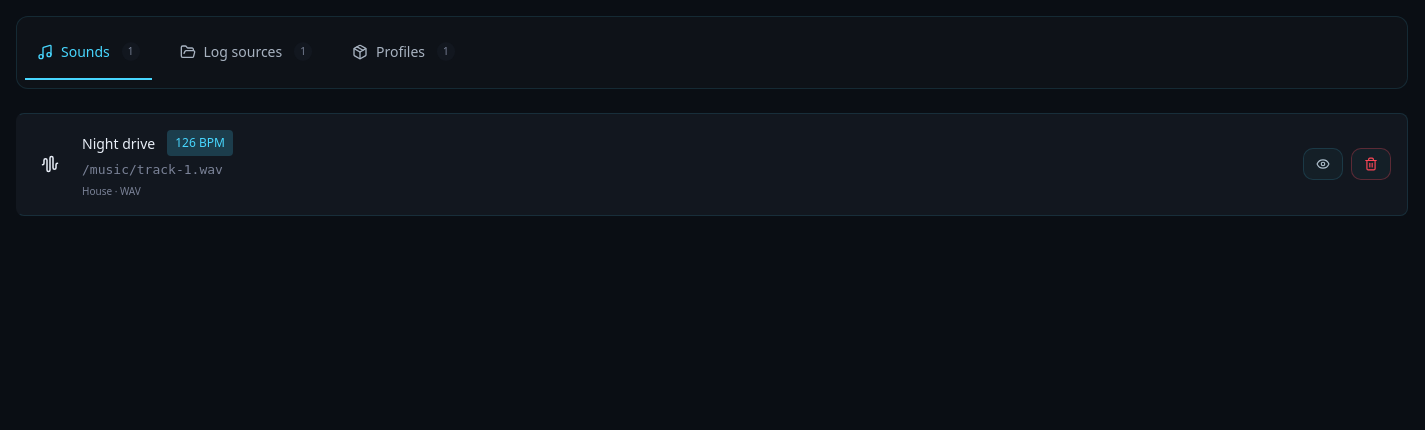
Test: ProLibraryScreen › switches between sounds, sources, and profiles while rendering deck data
The width and height of the screenshot is (1425, 430).
Check: the text "Night drive" is shown, box [82, 132, 155, 154]
Check: the text "126 BPM" is shown, box [167, 130, 233, 156]
Click the button "Log sources 1" at (246, 52), box [168, 25, 324, 80]
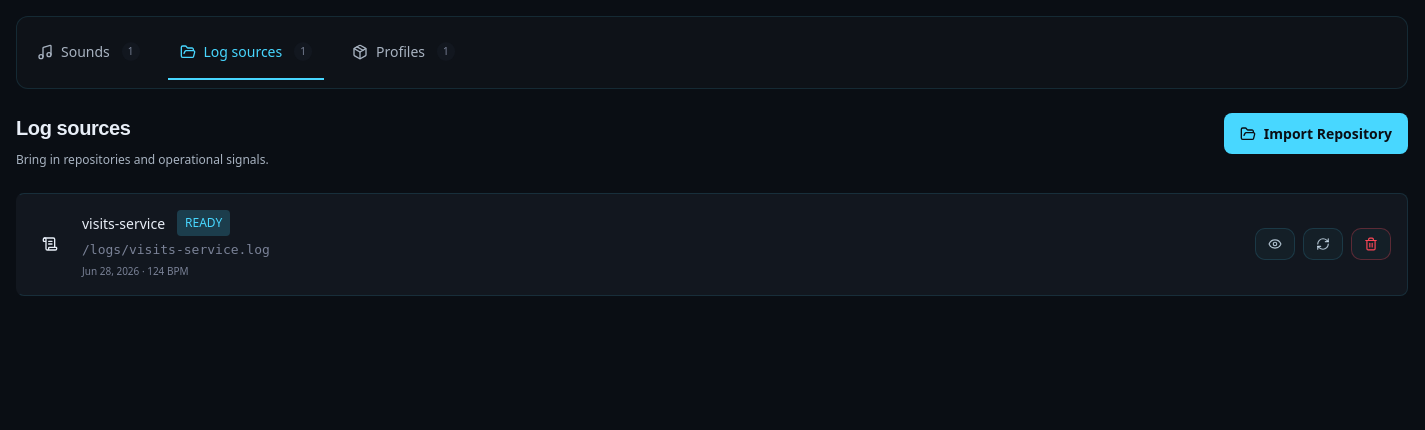
Check: the text "visits-service" is shown, box [82, 212, 165, 234]
Check: the text "/logs/visits-service.log" is shown, box [82, 242, 270, 257]
Click the button "Profiles 1" at (403, 52), box [340, 25, 467, 80]
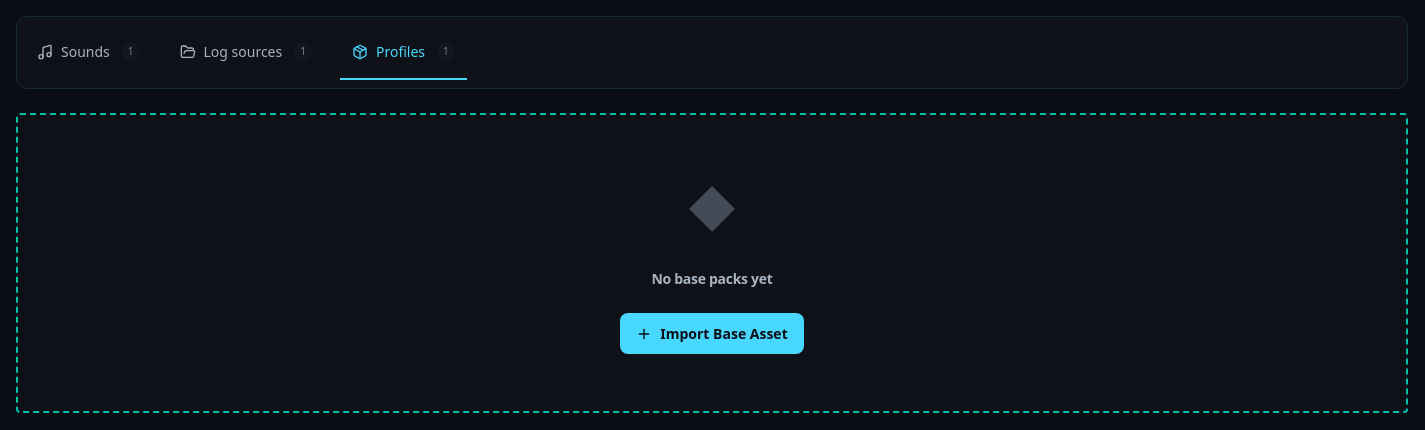
Check: the heading "No base packs yet" is shown, box [651, 268, 773, 289]
Check: the button "Import Base Asset" is shown, box [620, 313, 804, 354]
